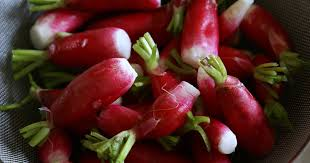raddish: (53, 54, 138, 131), (19, 18, 137, 65), (167, 0, 240, 71), (205, 53, 271, 129), (152, 70, 204, 140), (198, 123, 252, 163)
